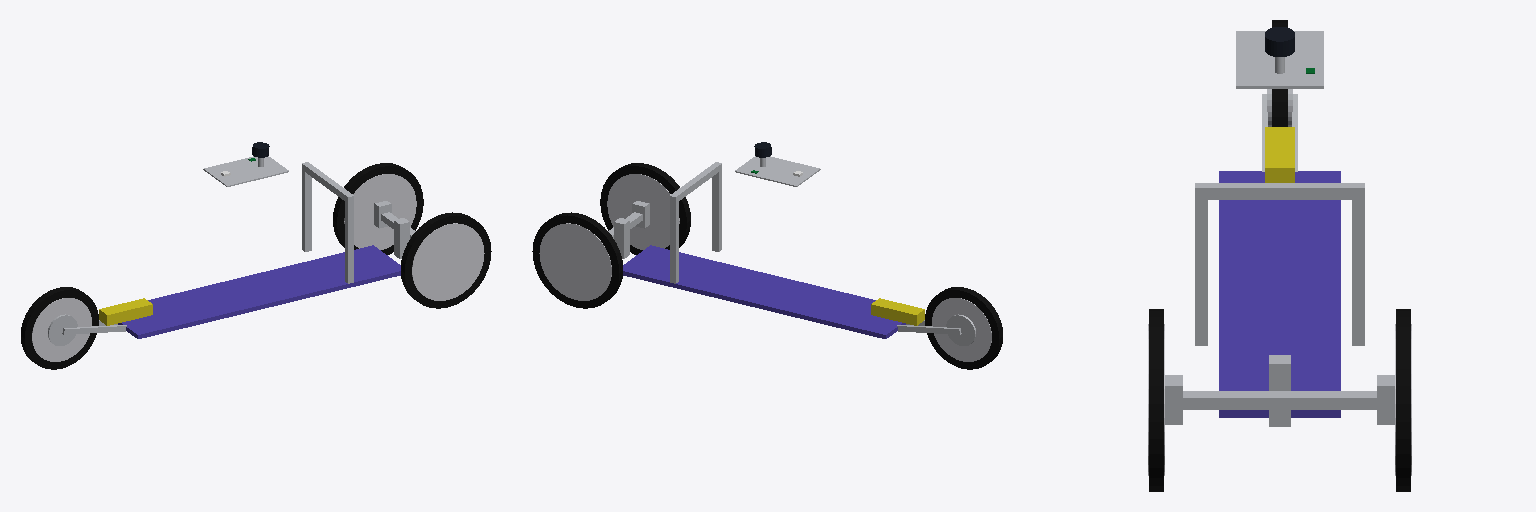
URDF robot description (enimia_black):
<?xml version="1.0"?>
<!--
  ENIMIA - Black Edition (ENIM Team Tunisia) - Prototype Shell Eco-marathon      v3 (surface lissee)
  Carrosserie reconstruite a partir des silhouettes des vues de dessus et de cote :
    - profil de toit / bas de caisse releve pixel par pixel sur la vue de cote
    - largeur (plan) relevee sur la vue de dessus
    - 2 carenes de roues avant (contour releve sur la vue de cote + vue de dessus)
    - vitrage (cockpit + vitres laterales) et bord de fuite rouge separes
  v3 : profils C2 (B-splines), raccords carenes/fuselage arrondis, lissage de Taubin,
       maillages COLLADA (.dae) avec normales par sommet -> ombrage lisse dans RViz/Gazebo.
       Copies STL (ombrage plat) dans meshes/stl/ pour les outils qui ne lisent pas le DAE.
  Dimensions : L 2684 x l 770 x h 695 mm, empattement 1704 mm,
               voie avant 567 mm, masse 25 kg
  Porte-a-faux : avant 593 mm, arriere 387 mm
  Roues : avant R 210 mm (limite par la carene), arriere R 180 mm (arc du pneu)

  Arbre cinematique :
    base_footprint (sol, milieu de l'empattement)
      └─ base_link (chassis, a hauteur d'axe avant)
           ├─ body_link               (coque + vitrage + bord de fuite, fixe : contient tout)
           ├─ front_left_steer_link   (revolute)   └─ front_left_wheel_link  (continuous)
           ├─ front_right_steer_link  (revolute)   └─ front_right_wheel_link (continuous)
           └─ rear_wheel_link         (continuous, motrice)
  Reperes REP-103 : X avant, Y gauche, Z haut. Unites SI.
-->
<robot name="enimia_black">

  <!-- ===================== Materiaux ===================== -->
  <material name="carbon_black"><color rgba="0.07 0.07 0.08 0.55"/></material>
  <material name="glass"><color rgba="0.20 0.32 0.40 0.35"/></material>
  <material name="tail_red"><color rgba="0.80 0.08 0.08 0.9"/></material>
  <material name="aluminium"><color rgba="0.75 0.76 0.78 1.0"/></material>
  <material name="tire"><color rgba="0.10 0.10 0.10 1.0"/></material>
  <material name="rim"><color rgba="0.82 0.82 0.84 1.0"/></material>
  <material name="floor"><color rgba="0.35 0.30 0.70 1.0"/></material>
  <material name="battery"><color rgba="0.85 0.80 0.15 1.0"/></material>
  <material name="lidar_body"><color rgba="0.12 0.14 0.18 1.0"/></material>
  <material name="gps_white"><color rgba="0.92 0.92 0.92 1.0"/></material>
  <material name="pcb_green"><color rgba="0.05 0.45 0.20 1.0"/></material>

  <!-- ===================== Base ===================== -->
  <link name="base_footprint"/>

  <joint name="base_footprint_joint" type="fixed">
    <parent link="base_footprint"/>
    <child link="base_link"/>
    <origin xyz="0 0 0.21" rpy="0 0 0"/>
  </joint>

  <!-- Chassis : plancher, traverse avant, colonne de direction, arceau, bras arriere, batterie -->
  <link name="base_link">
    <visual>
      <origin xyz="0.0955 0.0000 -0.0850" rpy="0 0 0"/>
      <geometry><box size="1.3 0.28 0.02"/></geometry>
      <material name="floor"/>
    </visual>
    <visual>
      <origin xyz="0.8520 0.0000 0.0000" rpy="0 0 0"/>
      <geometry><box size="0.04 0.48 0.03"/></geometry>
      <material name="aluminium"/>
    </visual>
    <visual>
      <origin xyz="0.8020 0.0000 0.0000" rpy="0 0 0"/>
      <geometry><box size="0.05 0.05 0.16"/></geometry>
      <material name="aluminium"/>
    </visual>
    <visual>
      <origin xyz="0.4455 0.0000 0.3400" rpy="0 0 0"/>
      <geometry><box size="0.03 0.39 0.03"/></geometry>
      <material name="aluminium"/>
    </visual>
    <visual>
      <origin xyz="0.4455 0.1800 0.1500" rpy="0 0 0"/>
      <geometry><box size="0.03 0.03 0.39"/></geometry>
      <material name="aluminium"/>
    </visual>
    <visual>
      <origin xyz="0.4455 -0.1800 0.1500" rpy="0 0 0"/>
      <geometry><box size="0.03 0.03 0.39"/></geometry>
      <material name="aluminium"/>
    </visual>
    <visual>
      <origin xyz="-0.7020 0.0350 -0.0575" rpy="0 0.18 0"/>
      <geometry><box size="0.31 0.015 0.025"/></geometry>
      <material name="aluminium"/>
    </visual>
    <visual>
      <origin xyz="-0.7020 -0.0350 -0.0575" rpy="0 0.18 0"/>
      <geometry><box size="0.31 0.015 0.025"/></geometry>
      <material name="aluminium"/>
    </visual>
    <visual>
      <origin xyz="-0.5320 0.0000 -0.0300" rpy="0 0 0"/>
      <geometry><box size="0.22 0.07 0.05"/></geometry>
      <material name="battery"/>
    </visual>
    <collision>
      <origin xyz="0.0955 0 -0.0850" rpy="0 0 0"/>
      <geometry><box size="1.3 0.28 0.02"/></geometry>
    </collision>
    <inertial>
      <origin xyz="-0.05 0 -0.050" rpy="0 0 0"/>
      <mass value="12.7"/>
      <inertia ixx="0.137583" ixy="0" ixz="0" iyy="2.42358" iyz="0" izz="2.4765"/>
    </inertial>
  </link>

  <!-- ===================== Coque (corps) ===================== -->
  <!-- Maillages exprimes dans le repere sol (origine au milieu de l'empattement) -->
  <link name="body_link">
    <visual>
      <origin xyz="0 0 0" rpy="0 0 0"/>
      <geometry><mesh filename="package://vehicle_description/meshes/body_shell.dae"/></geometry>
      <material name="carbon_black"/>
    </visual>
    <visual>
      <origin xyz="0 0 0" rpy="0 0 0"/>
      <geometry><mesh filename="package://vehicle_description/meshes/canopy.dae"/></geometry>
      <material name="glass"/>
    </visual>
    <visual>
      <origin xyz="0 0 0" rpy="0 0 0"/>
      <geometry><mesh filename="package://vehicle_description/meshes/tail_tip.dae"/></geometry>
      <material name="tail_red"/>
    </visual>
    <collision>
      <origin xyz="0 0 0" rpy="0 0 0"/>
      <geometry><mesh filename="package://vehicle_description/meshes/body_collision.stl"/></geometry>
    </collision>
    <inertial>
      <origin xyz="0.1939 0 0.329146" rpy="0 0 0"/>
      <mass value="7.0"/>
      <inertia ixx="0.587735" ixy="0.00022506" ixz="0.084203" iyy="3.65022" iyz="0" izz="3.67245"/>
    </inertial>
  </link>

  <joint name="body_joint" type="fixed">
    <parent link="base_link"/>
    <child link="body_link"/>
    <origin xyz="0 0 -0.21" rpy="0 0 0"/>
  </joint>

  <!-- ===================== Roue avant gauche (dans sa carene) ===================== -->
  <link name="front_left_steer_link">
    <visual>
      <origin xyz="0 -0.040 0" rpy="0 0 0"/>
      <geometry><box size="0.06 0.04 0.10"/></geometry>
      <material name="aluminium"/>
    </visual>
    <inertial>
      <origin xyz="0 -0.040 0" rpy="0 0 0"/>
      <mass value="0.4"/>
      <inertia ixx="0.000386667" ixy="0" ixz="0" iyy="0.000453333" iyz="0" izz="0.000173333"/>
    </inertial>
  </link>

  <joint name="front_left_steer_joint" type="revolute">
    <parent link="base_link"/>
    <child link="front_left_steer_link"/>
    <origin xyz="0.8520 0.2835 0" rpy="0 0 0"/>
    <axis xyz="0 0 1"/>
    <limit lower="-0.21" upper="0.21" effort="20" velocity="2.0"/>
    <dynamics damping="0.1" friction="0.05"/>
  </joint>

  <link name="front_left_wheel_link">
    <visual>
      <origin xyz="0 0 0" rpy="1.5708 0 0"/>
      <geometry><cylinder radius="0.21" length="0.035"/></geometry>
      <material name="tire"/>
    </visual>
    <visual>
      <origin xyz="0 0 0" rpy="1.5708 0 0"/>
      <geometry><cylinder radius="0.175" length="0.039"/></geometry>
      <material name="rim"/>
    </visual>
    <collision>
      <origin xyz="0 0 0" rpy="1.5708 0 0"/>
      <geometry><cylinder radius="0.21" length="0.035"/></geometry>
    </collision>
    <inertial>
      <origin xyz="0 0 0" rpy="0 0 0"/>
      <mass value="1.0"/>
      <inertia ixx="0.0179333" ixy="0" ixz="0" iyy="0.0356625" iyz="0" izz="0.0179333"/>
    </inertial>
  </link>

  <joint name="front_left_wheel_joint" type="continuous">
    <parent link="front_left_steer_link"/>
    <child link="front_left_wheel_link"/>
    <origin xyz="0 0 0" rpy="0 0 0"/>
    <axis xyz="0 1 0"/>
    <limit effort="10" velocity="40"/>
    <dynamics damping="0.01" friction="0.0"/>
  </joint>

  <!-- ===================== Roue avant droite (dans sa carene) ===================== -->
  <link name="front_right_steer_link">
    <visual>
      <origin xyz="0 0.040 0" rpy="0 0 0"/>
      <geometry><box size="0.06 0.04 0.10"/></geometry>
      <material name="aluminium"/>
    </visual>
    <inertial>
      <origin xyz="0 0.040 0" rpy="0 0 0"/>
      <mass value="0.4"/>
      <inertia ixx="0.000386667" ixy="0" ixz="0" iyy="0.000453333" iyz="0" izz="0.000173333"/>
    </inertial>
  </link>

  <joint name="front_right_steer_joint" type="revolute">
    <parent link="base_link"/>
    <child link="front_right_steer_link"/>
    <origin xyz="0.8520 -0.2835 0" rpy="0 0 0"/>
    <axis xyz="0 0 1"/>
    <limit lower="-0.21" upper="0.21" effort="20" velocity="2.0"/>
    <dynamics damping="0.1" friction="0.05"/>
  </joint>

  <link name="front_right_wheel_link">
    <visual>
      <origin xyz="0 0 0" rpy="1.5708 0 0"/>
      <geometry><cylinder radius="0.21" length="0.035"/></geometry>
      <material name="tire"/>
    </visual>
    <visual>
      <origin xyz="0 0 0" rpy="1.5708 0 0"/>
      <geometry><cylinder radius="0.175" length="0.039"/></geometry>
      <material name="rim"/>
    </visual>
    <collision>
      <origin xyz="0 0 0" rpy="1.5708 0 0"/>
      <geometry><cylinder radius="0.21" length="0.035"/></geometry>
    </collision>
    <inertial>
      <origin xyz="0 0 0" rpy="0 0 0"/>
      <mass value="1.0"/>
      <inertia ixx="0.0179333" ixy="0" ixz="0" iyy="0.0356625" iyz="0" izz="0.0179333"/>
    </inertial>
  </link>

  <joint name="front_right_wheel_joint" type="continuous">
    <parent link="front_right_steer_link"/>
    <child link="front_right_wheel_link"/>
    <origin xyz="0 0 0" rpy="0 0 0"/>
    <axis xyz="0 1 0"/>
    <limit effort="10" velocity="40"/>
    <dynamics damping="0.01" friction="0.0"/>
  </joint>

  <!-- ===================== Roue arriere motrice (moteur-roue) ===================== -->
  <link name="rear_wheel_link">
    <visual>
      <origin xyz="0 0 0" rpy="1.5708 0 0"/>
      <geometry><cylinder radius="0.18" length="0.035"/></geometry>
      <material name="tire"/>
    </visual>
    <visual>
      <origin xyz="0 0 0" rpy="1.5708 0 0"/>
      <geometry><cylinder radius="0.145" length="0.039"/></geometry>
      <material name="rim"/>
    </visual>
    <visual>
      <origin xyz="0 0 0" rpy="1.5708 0 0"/>
      <geometry><cylinder radius="0.07" length="0.06"/></geometry>
      <material name="aluminium"/>
    </visual>
    <collision>
      <origin xyz="0 0 0" rpy="1.5708 0 0"/>
      <geometry><cylinder radius="0.18" length="0.035"/></geometry>
    </collision>
    <inertial>
      <origin xyz="0 0 0" rpy="0 0 0"/>
      <mass value="2.5"/>
      <inertia ixx="0.0142319" ixy="0" ixz="0" iyy="0.02732" iyz="0" izz="0.0142319"/>
    </inertial>
  </link>

  <joint name="rear_wheel_joint" type="continuous">
    <parent link="base_link"/>
    <child link="rear_wheel_link"/>
    <origin xyz="-0.8520 0 -0.030" rpy="0 0 0"/>
    <axis xyz="0 1 0"/>
    <limit effort="15" velocity="40"/>
    <dynamics damping="0.01" friction="0.0"/>
  </joint>

  <!-- ===================== Capteurs (sur le toit) ===================== -->
  <!--
    Repere REP-103 : X avant, Y gauche, Z haut.
    Une plaque de montage est posee sur le sommet du toit (point haut de la coque : z_sol = 0.694 m,
    plat sur environ x = -0.15 a +0.30 m et |y| < 0.10 m). Tout est monte dessus :
      - LiDAR sur un petit mat, au-dessus du toit pour avoir 360 degres libres,
        incline de 8 deg vers l'avant (+pitch autour de Y) pour voir les petits cones ;
      - GPS derriere le LiDAR, plus bas que le plan de scan (le LiDAR incline ne le voit jamais) ;
      - IMU a cote du LiDAR (cote gauche), a plat, axes alignes sur le vehicule (rpy = 0).
    Positions de simulation : a remplacer par les mesures reelles des supports.
  -->
  <link name="sensor_mount_link">
    <visual>
      <origin xyz="0 0 -0.003" rpy="0 0 0"/>
      <geometry><box size="0.30 0.20 0.006"/></geometry>
      <material name="aluminium"/>
    </visual>
    <visual>
      <origin xyz="0.070 0 0.027" rpy="0 0 0"/>
      <geometry><cylinder radius="0.012" length="0.054"/></geometry>
      <material name="aluminium"/>
    </visual>
    <inertial>
      <origin xyz="0 0 0.0" rpy="0 0 0"/>
      <mass value="0.2"/>
      <inertia ixx="0.0006817" ixy="0" ixz="0" iyy="0.001515" iyz="0" izz="0.002167"/>
    </inertial>
  </link>

  <joint name="sensor_mount_joint" type="fixed">
    <parent link="base_link"/>
    <child link="sensor_mount_link"/>
    <origin xyz="0.050 0.000 0.492" rpy="0 0 0"/>
  </joint>

  <!-- LiDAR (RPLIDAR A1M8) : origine = plan de scan. +8 deg de pitch => l'axe X du LiDAR pointe vers le sol, devant. -->
  <link name="lidar_link">
    <visual>
      <origin xyz="0 0 0" rpy="0 0 0"/>
      <geometry><cylinder radius="0.0355" length="0.041"/></geometry>
      <material name="lidar_body"/>
    </visual>
    <inertial>
      <origin xyz="0 0 0" rpy="0 0 0"/>
      <mass value="0.17"/>
      <inertia ixx="7.737e-05" ixy="0" ixz="0" iyy="7.737e-05" iyz="0" izz="0.0001071"/>
    </inertial>
  </link>

  <joint name="lidar_joint" type="fixed">
    <parent link="sensor_mount_link"/>
    <child link="lidar_link"/>
    <origin xyz="0.070 0.000 0.075" rpy="0 0.07 0"/>
  </joint>

  <!-- GPS/GNSS (antenne GT-U7) : origine = sommet de l'antenne, derriere le LiDAR, sur la ligne mediane. -->
  <link name="gps_link">
    <visual>
      <origin xyz="0 0 -0.005" rpy="0 0 0"/>
      <geometry><box size="0.03 0.03 0.01"/></geometry>
      <material name="gps_white"/>
    </visual>
    <inertial>
      <origin xyz="0 0 -0.005" rpy="0 0 0"/>
      <mass value="0.03"/>
      <inertia ixx="2.5e-06" ixy="0" ixz="0" iyy="2.5e-06" iyz="0" izz="4.5e-06"/>
    </inertial>
  </link>

  <joint name="gps_joint" type="fixed">
    <parent link="sensor_mount_link"/>
    <child link="gps_link"/>
    <origin xyz="-0.100 0.000 0.010" rpy="0 0 0"/>
  </joint>

  <!-- IMU (BNO055) : a plat sur la plaque, a gauche du LiDAR, axes alignes sur base_link. -->
  <link name="imu_link">
    <visual>
      <origin xyz="0 0 0.002" rpy="0 0 0"/>
      <geometry><box size="0.027 0.020 0.004"/></geometry>
      <material name="pcb_green"/>
    </visual>
    <inertial>
      <origin xyz="0 0 0.002" rpy="0 0 0"/>
      <mass value="0.005"/>
      <inertia ixx="1.733e-07" ixy="0" ixz="0" iyy="3.104e-07" iyz="0" izz="4.704e-07"/>
    </inertial>
  </link>

  <joint name="imu_joint" type="fixed">
    <parent link="sensor_mount_link"/>
    <child link="imu_link"/>
    <origin xyz="0.070 0.070 0.000" rpy="0 0 0"/>
  </joint>

  <!-- ===================== Gazebo (adherence pneus) ===================== -->
  <gazebo reference="front_left_wheel_link"><mu1>1.0</mu1><mu2>1.0</mu2></gazebo>
  <gazebo reference="front_right_wheel_link"><mu1>1.0</mu1><mu2>1.0</mu2></gazebo>
  <gazebo reference="rear_wheel_link"><mu1>1.0</mu1><mu2>1.0</mu2></gazebo>

  <!-- Gazebo Sim : publie les etats des articulations (direction + roues) pour /joint_states via ros_gz_bridge -->
  <gazebo>
    <plugin filename="gz-sim-joint-state-publisher-system"
            name="gz::sim::systems::JointStatePublisher"/>
  </gazebo>


  <!-- cmd_vel drive plugins: rear wheel velocity, front steering, ground-truth odometry -->
  <gazebo>
    <plugin filename="gz-sim-joint-controller-system"
            name="gz::sim::systems::JointController">
      <joint_name>rear_wheel_joint</joint_name>
      <topic>/enimia/rear_wheel_cmd</topic>
    </plugin>
    <plugin filename="gz-sim-joint-position-controller-system"
            name="gz::sim::systems::JointPositionController">
      <joint_name>front_left_steer_joint</joint_name>
      <topic>/enimia/steer_left_cmd</topic>
      <p_gain>10</p_gain>
      <i_gain>0</i_gain>
      <d_gain>1</d_gain>
      <cmd_max>20</cmd_max>
      <cmd_min>-20</cmd_min>
    </plugin>
    <plugin filename="gz-sim-joint-position-controller-system"
            name="gz::sim::systems::JointPositionController">
      <joint_name>front_right_steer_joint</joint_name>
      <topic>/enimia/steer_right_cmd</topic>
      <p_gain>10</p_gain>
      <i_gain>0</i_gain>
      <d_gain>1</d_gain>
      <cmd_max>20</cmd_max>
      <cmd_min>-20</cmd_min>
    </plugin>
    <plugin filename="gz-sim-odometry-publisher-system"
            name="gz::sim::systems::OdometryPublisher">
      <odom_frame>map</odom_frame>
      <robot_base_frame>base_footprint</robot_base_frame>
      <odom_topic>/enimia/odom</odom_topic>
      <tf_topic>/enimia/tf</tf_topic>
      <odom_publish_frequency>30</odom_publish_frequency>
      <dimensions>3</dimensions>
    </plugin>
  </gazebo>

  <!-- ===================== Gazebo Sensors ===================== -->
  <!--
    Load the sensor systems:
    - Sensors: rendering-based sensors (gpu_lidar, cameras)
    - Imu: IMU sensor plugin
    - NavSat: GPS / NavSat sensor plugin
  -->
  <!--
    2-D LiDAR (RPLIDAR A1M8 approximation).
    360°, 10 Hz, 0.15–12 m, 1° resolution.
    Topic: /lidar_link/scan  (bridged to /scan in simulation.launch.py).
    The joint has rpy="0 0.07 0" (+4° pitch) so the scan plane is slightly
    tilted — this matches the physical mount. The bridge delivers a flat
    LaserScan; the tilt is negligible for 2D obstacle detection.
  -->
  <gazebo reference="lidar_link">
    <sensor name="lidar" type="gpu_lidar">
      <topic>/lidar_link/scan</topic>
      <gz_frame_id>lidar_link</gz_frame_id>
      <update_rate>10</update_rate>
      <always_on>true</always_on>
      <visualize>false</visualize>
      <lidar>
        <scan>
          <horizontal>
            <samples>360</samples>
            <resolution>1</resolution>
            <min_angle>-3.14159265</min_angle>
            <max_angle>3.14159265</max_angle>
          </horizontal>
        </scan>
        <range>
          <min>0.15</min>
          <max>12.0</max>
          <resolution>0.01</resolution>
        </range>
        <noise type="gaussian">
          <mean>0.0</mean>
          <stddev>0.01</stddev>
        </noise>
      </lidar>
    </sensor>
  </gazebo>

  <!--
    IMU (BNO055 approximation).
    100 Hz, small Gaussian noise on gyro and accel.
    Topic: /imu_link/imu  (bridged to /imu/data in simulation.launch.py).
    imu_link axes are aligned with base_link (rpy=0) so no additional
    rotation is needed in ekf_local.yaml / ekf_global.yaml.
  -->
  <gazebo reference="imu_link">
    <sensor name="imu" type="imu">
      <topic>/imu_link/imu</topic>
      <gz_frame_id>imu_link</gz_frame_id>
      <update_rate>100</update_rate>
      <always_on>true</always_on>
      <imu>
        <angular_velocity>
          <x><noise type="gaussian"><mean>0</mean><stddev>0.001</stddev></noise></x>
          <y><noise type="gaussian"><mean>0</mean><stddev>0.001</stddev></noise></y>
          <z><noise type="gaussian"><mean>0</mean><stddev>0.001</stddev></noise></z>
        </angular_velocity>
        <linear_acceleration>
          <x><noise type="gaussian"><mean>0</mean><stddev>0.01</stddev></noise></x>
          <y><noise type="gaussian"><mean>0</mean><stddev>0.01</stddev></noise></y>
          <z><noise type="gaussian"><mean>0</mean><stddev>0.01</stddev></noise></z>
        </linear_acceleration>
      </imu>
    </sensor>
  </gazebo>

  <!--
    GPS/GNSS (GT-U7 approximation).
    5 Hz. The world's <spherical_coordinates> block sets the origin at
    Kamień Śląski so fixes land at the correct lat/lon.
    Topic: /gps_link/navsat  (bridged to /fix in simulation.launch.py).
  -->
  <gazebo reference="gps_link">
    <sensor name="navsat" type="navsat">
      <topic>/gps_link/navsat</topic>
      <gz_frame_id>gps_link</gz_frame_id>
      <update_rate>5</update_rate>
      <always_on>true</always_on>
    </sensor>
  </gazebo>

</robot>

--- Facts derived from the render (not from the file) ---
3 views of the same robot in one strip: view 1: azimuth 30°, elevation 25°; view 2: azimuth 150°, elevation 25°; view 3: azimuth 270°, elevation 25° (orthographic).
Robot: enimia_black — 12 links, 11 joints (2 revolute, 3 continuous, 6 fixed); root link base_footprint; default pose: every joint at zero.
Links seen in each view (by area): view 1: base_link, front_right_wheel_link, front_left_wheel_link, rear_wheel_link, sensor_mount_link; view 2: base_link, front_left_wheel_link, front_right_wheel_link, rear_wheel_link, sensor_mount_link; view 3: base_link, sensor_mount_link, front_left_wheel_link, front_right_wheel_link, rear_wheel_link, front_left_steer_link, front_right_steer_link, lidar_link.
Link boxes in pixels (x1,y1,x2,y2): base_link: (62,162,415,338); front_right_wheel_link: (401,212,491,308); front_left_wheel_link: (333,163,423,254); rear_wheel_link: (21,287,98,369); sensor_mount_link: (203,156,288,186); base_link: (608,162,961,338); front_left_wheel_link: (532,212,622,308); front_right_wheel_link: (600,163,690,254); rear_wheel_link: (925,287,1002,369); sensor_mount_link: (735,156,820,186); base_link: (1183,94,1376,426); sensor_mount_link: (1236,31,1323,88); front_left_wheel_link: (1395,309,1411,491); front_right_wheel_link: (1148,309,1164,491); rear_wheel_link: (1267,20,1292,126); front_left_steer_link: (1377,375,1394,424); front_right_steer_link: (1165,375,1182,424); lidar_link: (1265,27,1294,56).
Bounding box of the posed robot: 2.09 × 0.606 × 0.7999 m (x, y, z).
Meshes: 3 distinct files referenced, 0 mesh visuals loaded (none loaded); not drawn: 3 (reference not matched to a file when rendering).
